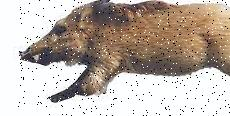Hog: (18, 0, 230, 116)
